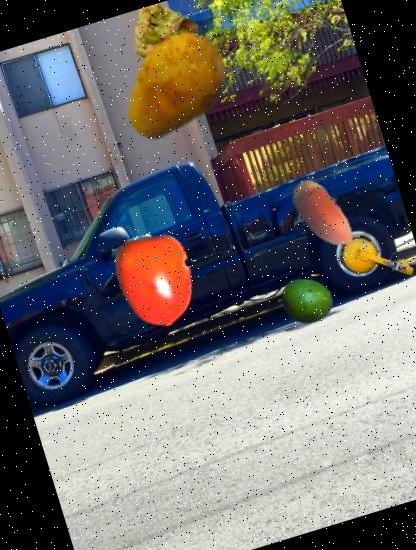Cauliflower: (122, 0, 204, 76)
Hazelnut: (273, 163, 373, 264)
Kaki: (97, 220, 216, 339)
Mango: (272, 266, 341, 336)
Potato: (100, 11, 252, 162)
